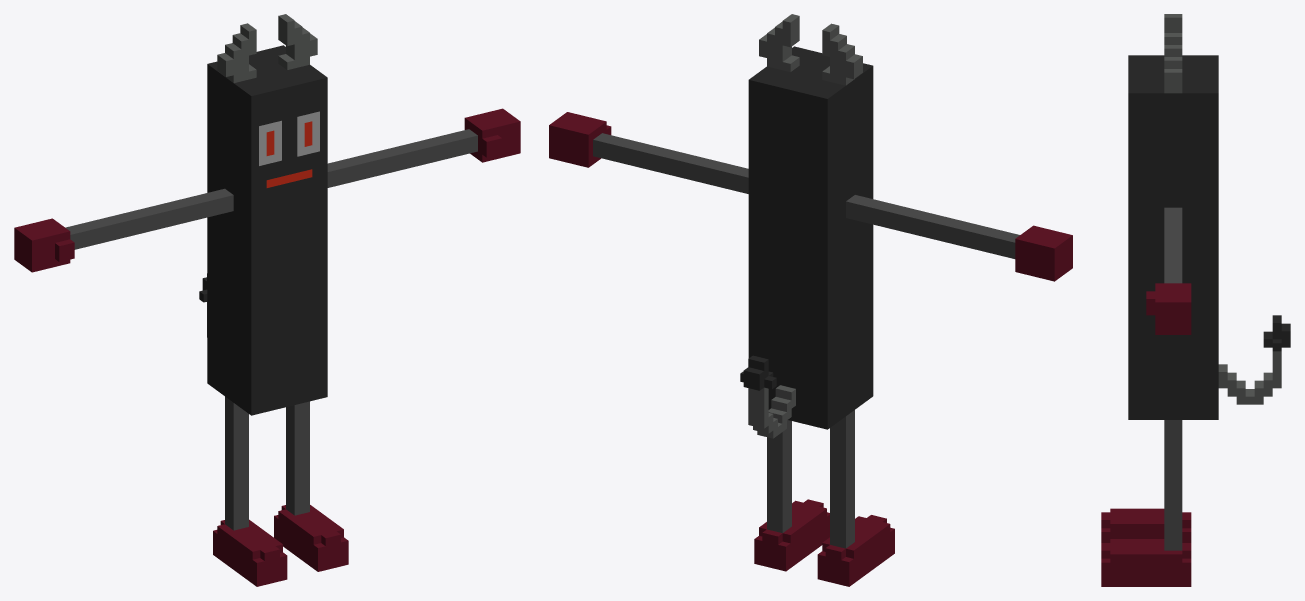
The model's file is potato_devil.fbx.
The picture shows the model from 3 angles, left to right: view 1: azimuth 30°, elevation 25°; view 2: azimuth 150°, elevation 25°; view 3: azimuth 270°, elevation 25°; orthographic projection. The views are drawn at different scales.
Parts seen in each view (by area): view 1: POTATOくん 悪役 2026 parted-0; view 2: POTATOくん 悪役 2026 parted-0; view 3: POTATOくん 悪役 2026 parted-0.
Part boxes in pixels (left/top/right/bottom): POTATOくん 悪役 2026 parted-0: left=14, top=14, right=520, bottom=586; POTATOくん 悪役 2026 parted-0: left=549, top=14, right=1072, bottom=586; POTATOくん 悪役 2026 parted-0: left=1101, top=14, right=1290, bottom=586.
Bounding box in the file's own units: 64 × 66 × 21.
